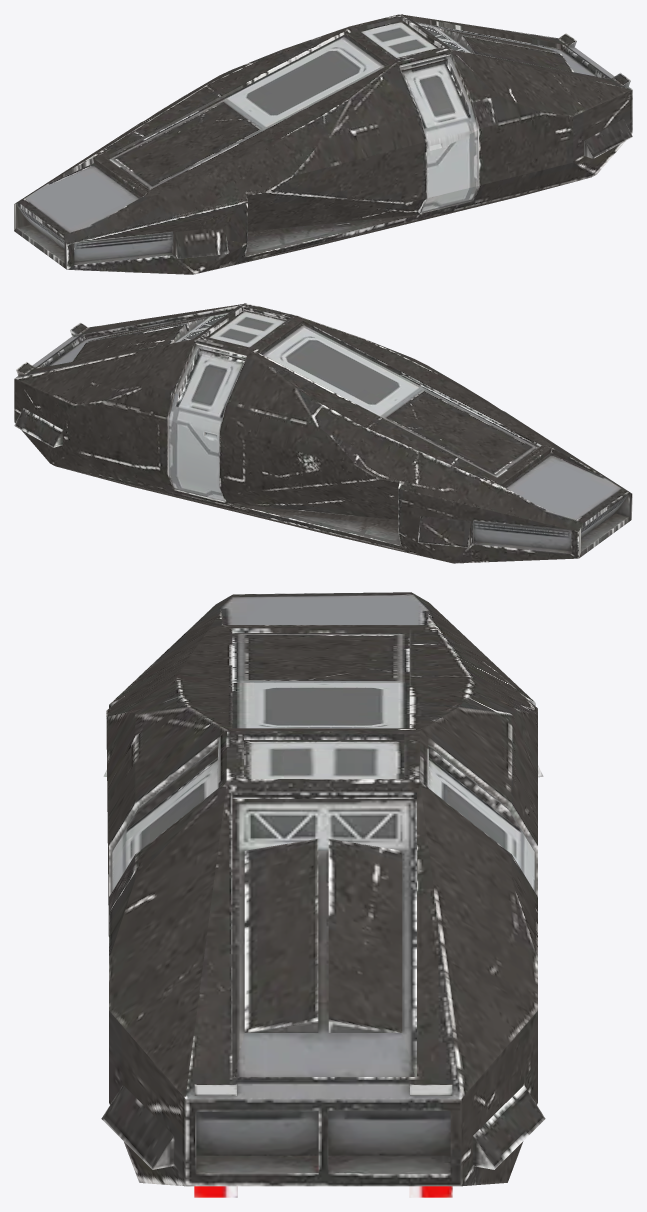
The model's file is Cyberpunk-Car.glb.
3 renders of one model, top to bottom at view 1: azimuth 30°, elevation 25°; view 2: azimuth 150°, elevation 25°; view 3: azimuth 270°, elevation 25°, orthographic. The views are drawn at different scales.
Parts seen in each view (by area): view 1: OutsideCar; view 2: OutsideCar; view 3: OutsideCar.
Boxes of the visible parts, <box> form: OutsideCar: <box>14,14,632,274</box>; OutsideCar: <box>14,303,632,563</box>; OutsideCar: <box>101,592,545,1197</box>.
Size of the model in its own units: 3.91 by 1.11 by 1.35.
1 material, 1 textured.
